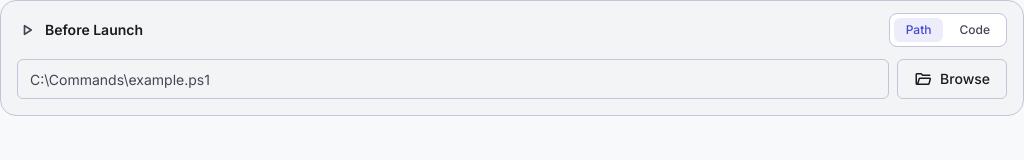
Test: PhaseBlock › fills the path from the file picker on Browse
Click the button "Browse" at (952, 79), box [897,59,1007,99]
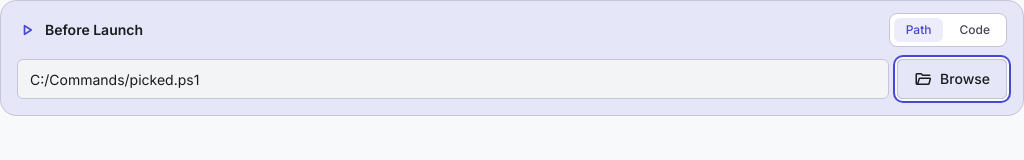
Now the field named "Before Launch script path" holds "C:/Commands/picked.ps1", box [17,59,889,99]
